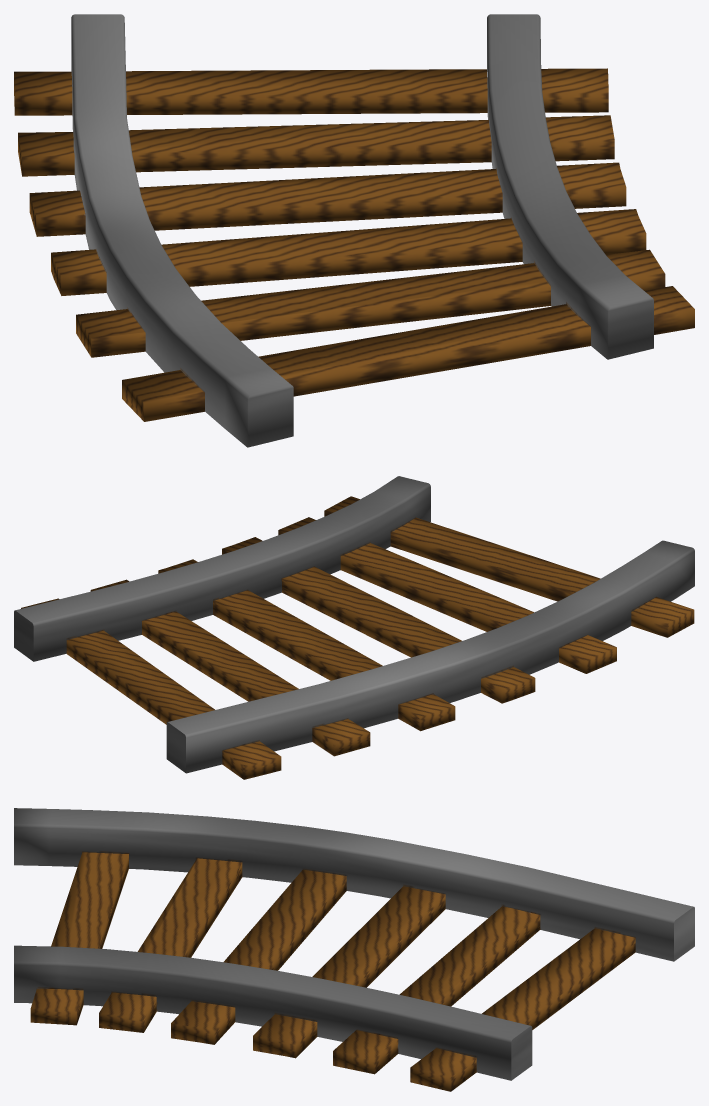
File: TurningRailRight.fbx
3 views of the same model, one above another, from view 1: azimuth 30°, elevation 25°; view 2: azimuth 150°, elevation 25°; view 3: azimuth 270°, elevation 25° (orthographic). The views are drawn at different scales.
Parts seen in each view (by area): view 1: TurningRailRight; view 2: TurningRailRight; view 3: TurningRailRight.
Part boxes in pixels (x1,y1,x2,y2): TurningRailRight: (14, 14, 694, 447); TurningRailRight: (14, 476, 694, 779); TurningRailRight: (14, 808, 694, 1091).
Bounding box in the file's own units: 269 × 19.26 × 293.
